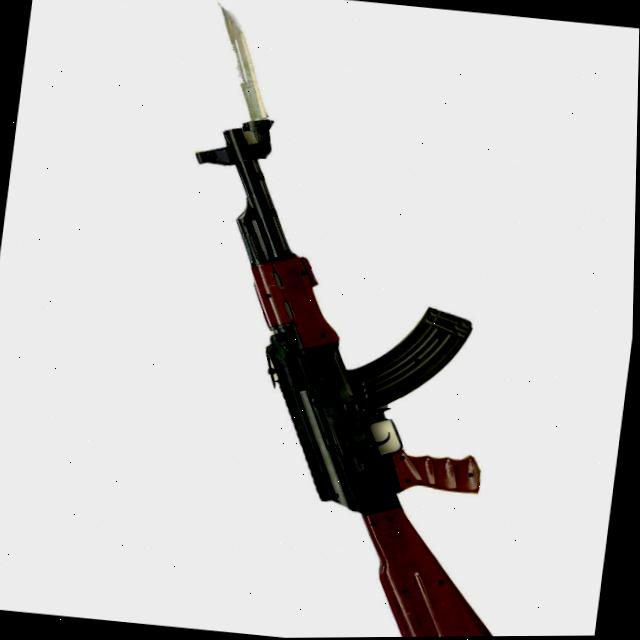rifle: (104, 0, 598, 639)
